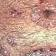plaque psoriasis: (31, 0, 56, 31), (5, 0, 16, 1)
